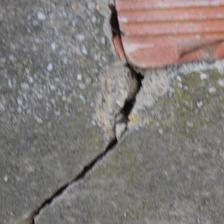Crack: (17, 3, 130, 216)
